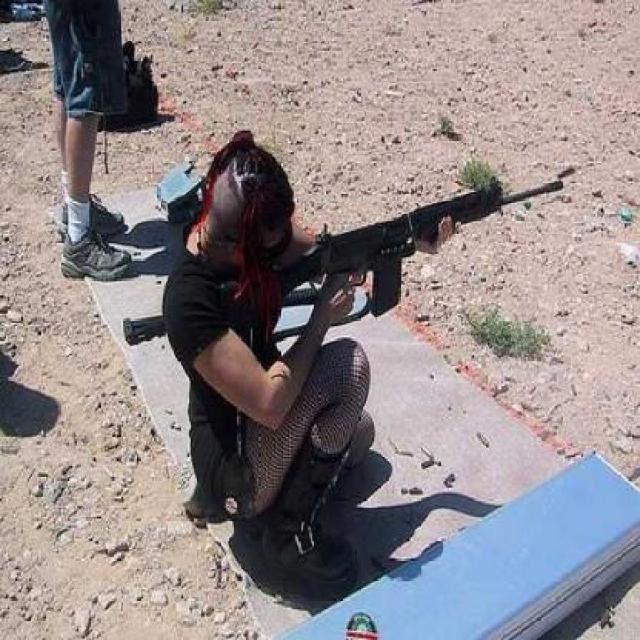weapon: (215, 167, 564, 323)
